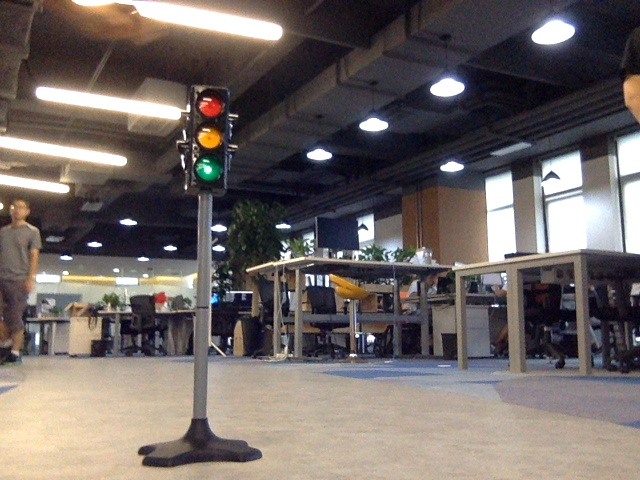green: (191, 89, 221, 184)
